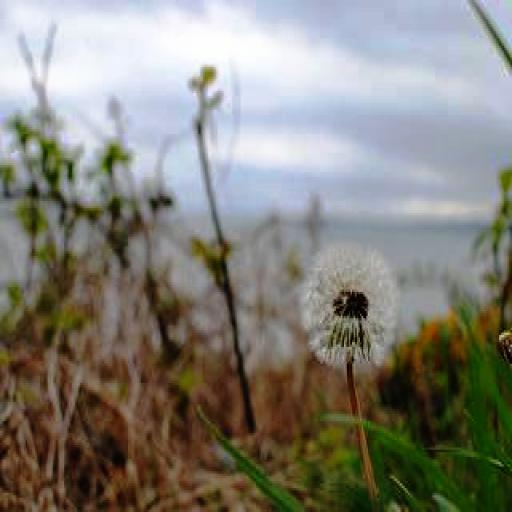dandelion: (298, 249, 392, 368)
